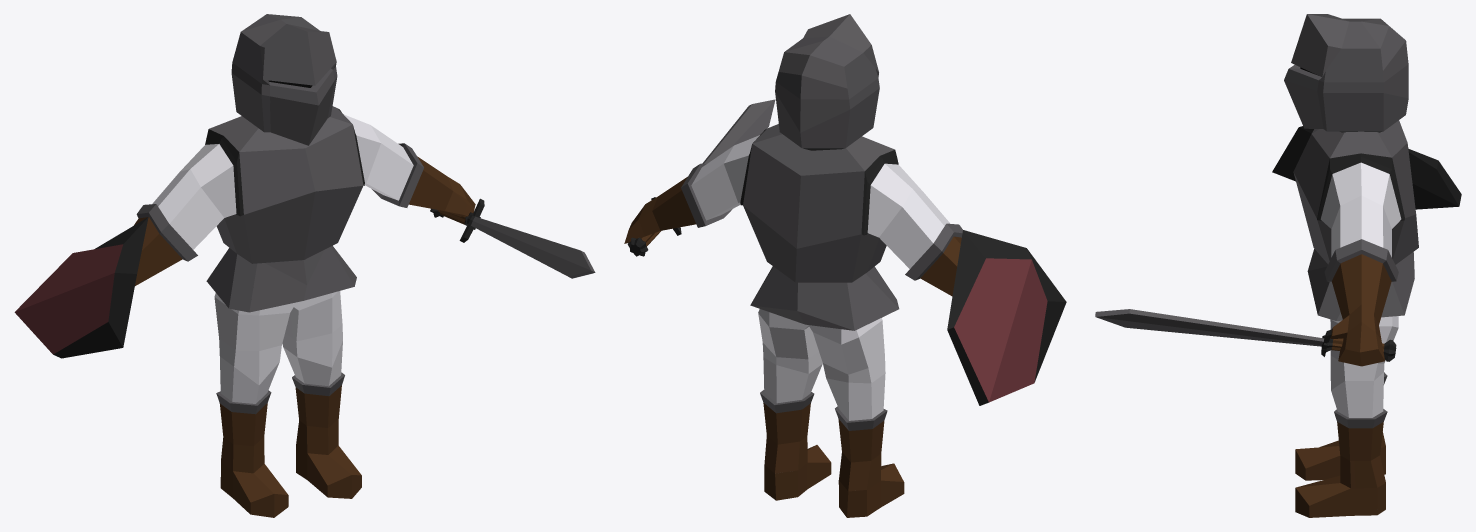
Rendered from rycerz__prototyp__.fbx.
The picture shows the model from 3 angles, left to right: view 1: azimuth 30°, elevation 25°; view 2: azimuth 150°, elevation 25°; view 3: azimuth 270°, elevation 25°; orthographic projection. The views are drawn at different scales.
Visible parts, largest first — view 1: dupa, tarcza, miecz.001; view 2: dupa, tarcza, miecz.001; view 3: dupa, miecz.001, tarcza.
Part boxes in pixels (x1,y1,x2,y2): dupa: [134, 14, 475, 517]; tarcza: [14, 217, 148, 358]; miecz.001: [430, 198, 595, 278]; dupa: [624, 14, 962, 517]; tarcza: [947, 230, 1066, 405]; miecz.001: [627, 99, 775, 256]; dupa: [1284, 14, 1418, 517]; miecz.001: [1095, 309, 1396, 361]; tarcza: [1272, 126, 1461, 209].
Bounding box in the file's own units: 53.76 × 58.56 × 40.61.
